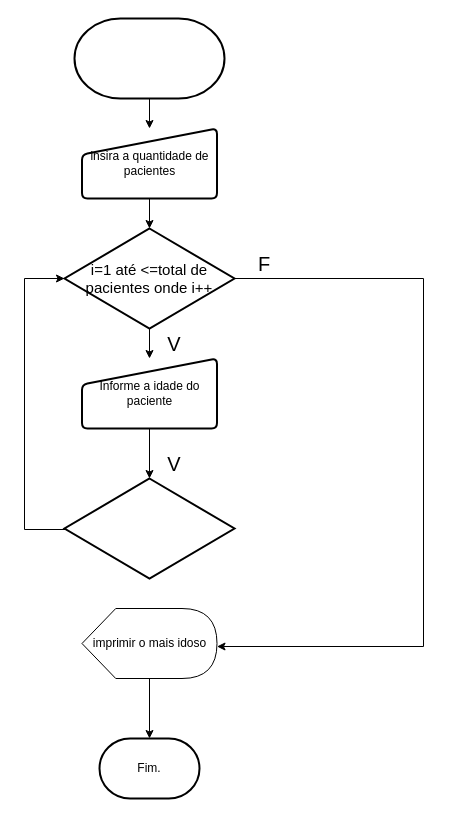
The diagram is 449 pixels wide and 816 high, and some of its shapes have lost their labels. Each missing label, with the centre of its shape:
"if idoso<idade idoso=idade" goes at (149,528).
"início" goes at (149,58).
